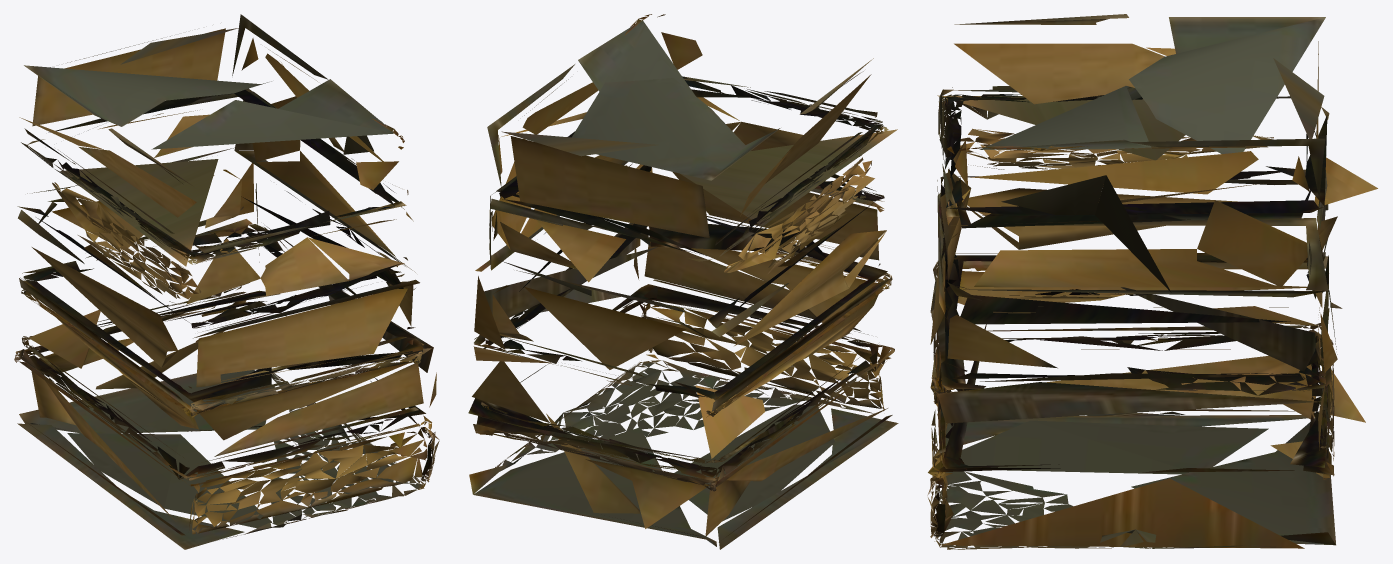
Rendered from books_lod2.glb.
The picture shows the model from 3 angles, left to right: view 1: azimuth 30°, elevation 25°; view 2: azimuth 150°, elevation 25°; view 3: azimuth 270°, elevation 25°; orthographic projection. The views are drawn at different scales.
Parts seen in each view (by area): view 1: node_0; view 2: node_0; view 3: node_0.
Part boxes in pixels (bbox=[...]): node_0: bbox=[14, 14, 439, 549]; node_0: bbox=[468, 14, 898, 549]; node_0: bbox=[927, 14, 1377, 549].
Size of the model in its own units: 0.8743 by 1.03 by 1.01.
Materials: 1 (1 with a texture image).
